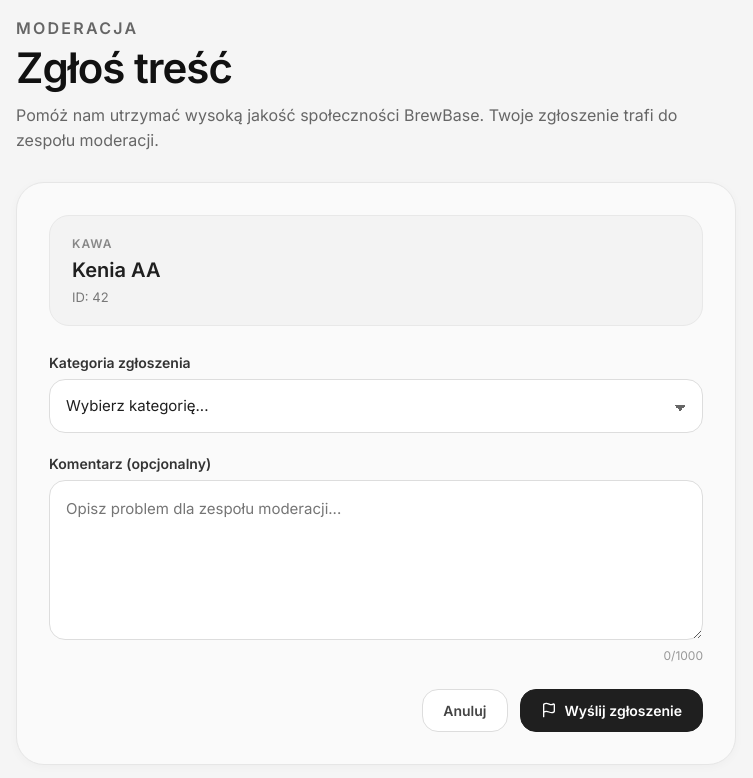
Test case: ReportPage › submits report and shows success state
Expected: the heading "Zgłoś treść" is shown, [16,42,232,93]
Select "Spam lub reklama" in the dropdown labelled "Kategoria zgłoszenia" at (376,406), box [49,379,703,433]
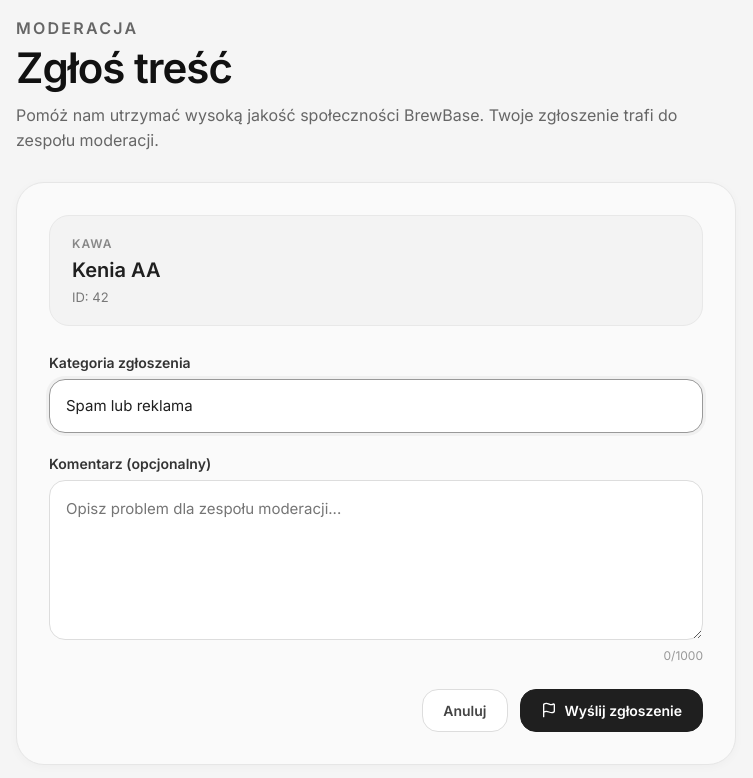
Type "Treść wygląda na spam." into the text box labelled "Komentarz (opcjonalny)".
click(376, 560); type("Treść wygląda na spam.")  # box [49,480,703,640]
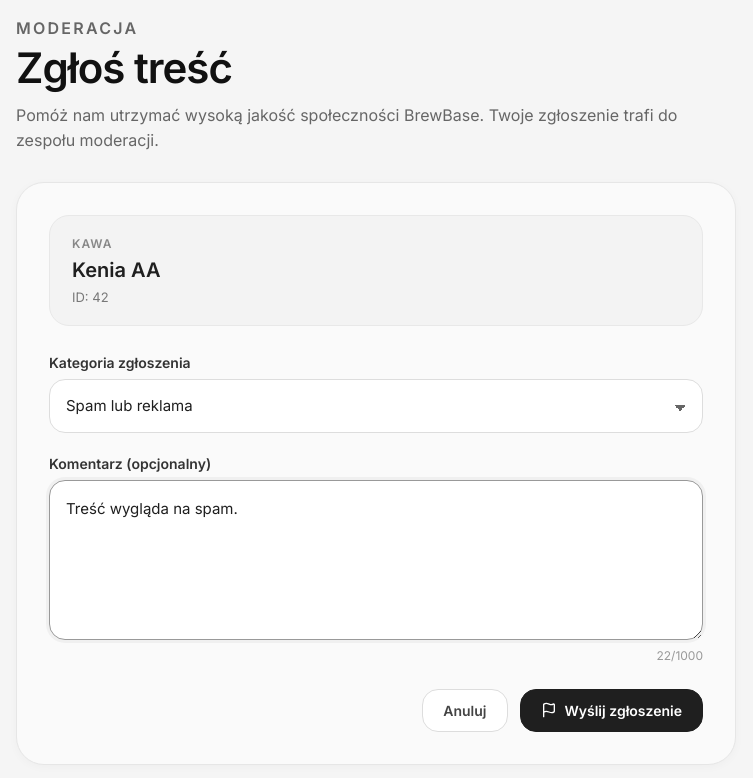
Click the button "Wyślij zgłoszenie".
click(611, 710)  # box [520,689,703,732]
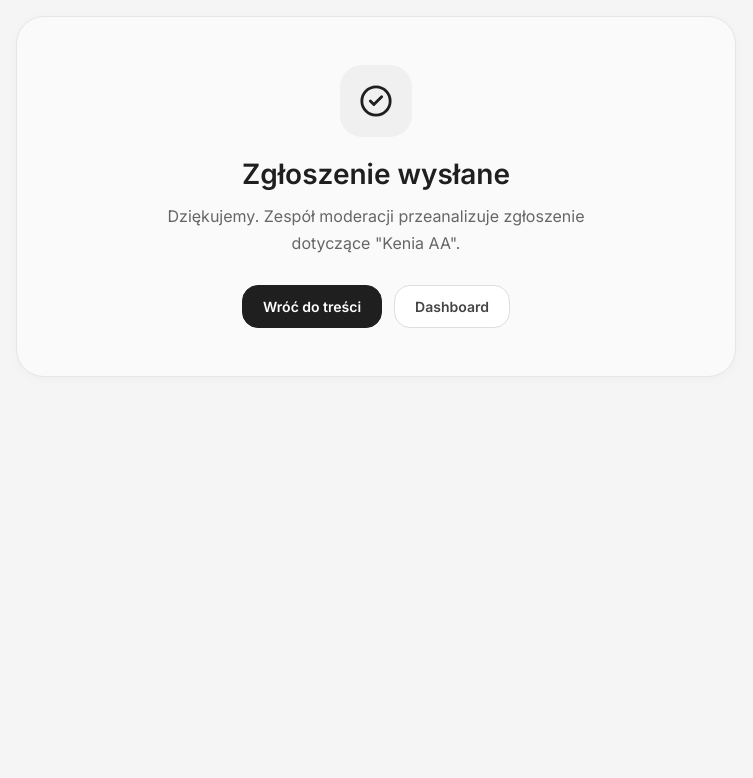
Now the heading "Zgłoszenie wysłane" is shown, box [242,157,510,191]
Now the text "Kenia AA" is shown, box [382,233,450,253]
